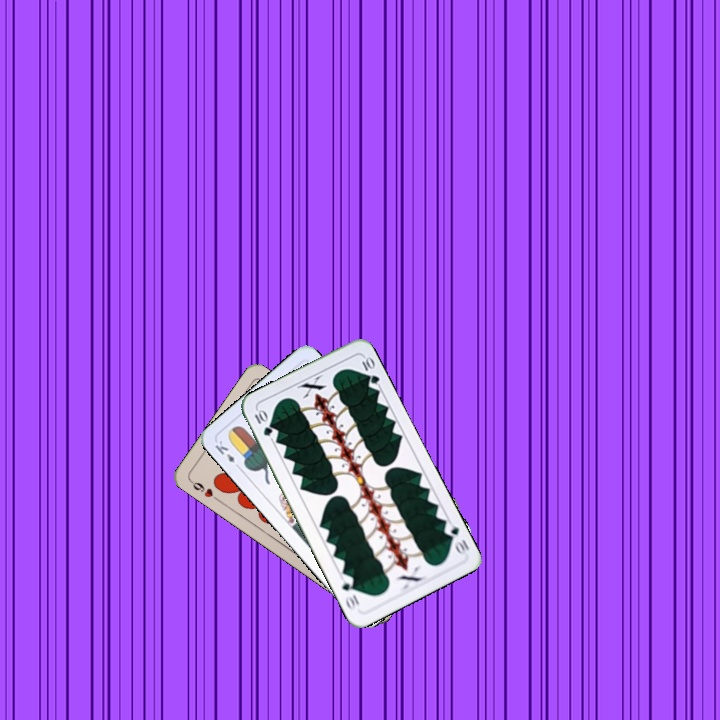EK: (211, 436, 243, 472)
G10: (440, 521, 472, 558), (250, 406, 275, 439)
H9: (186, 476, 222, 504)
